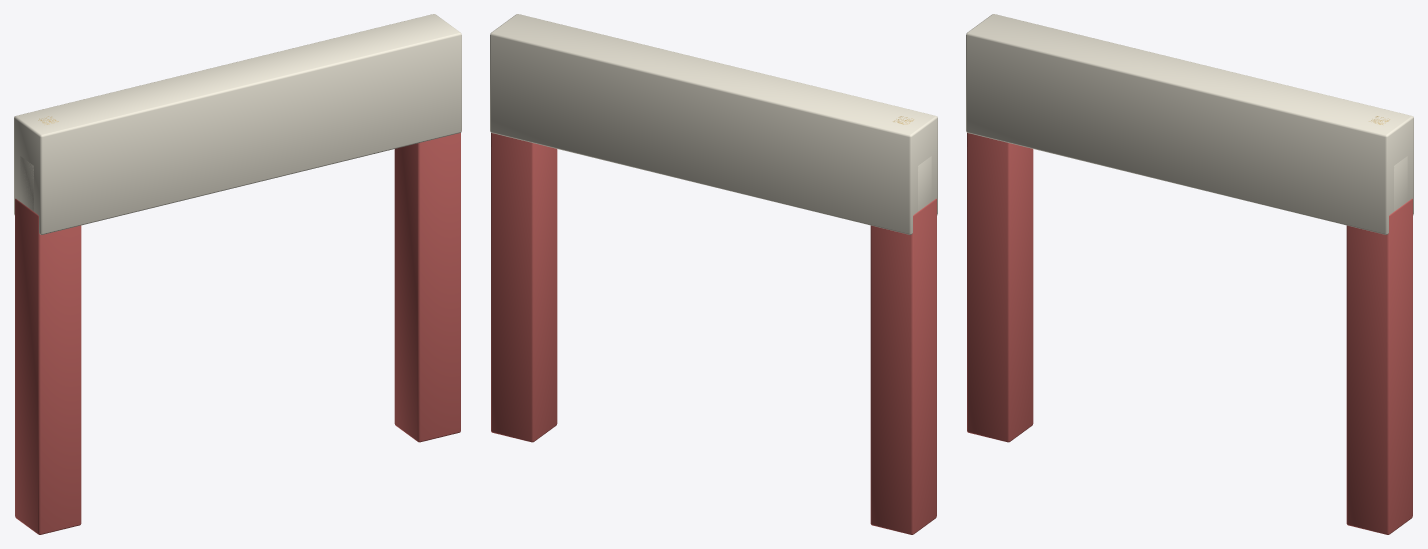
File: cancello.glb
3 views of the same model, side by side, from view 1: azimuth 30°, elevation 25°; view 2: azimuth 150°, elevation 25°; view 3: azimuth 330°, elevation 25° (orthographic).
Visible parts, largest first — view 1: COL_architrave, montante_-1, montante_1, architrave; view 2: COL_architrave, montante_-1, montante_1, architrave; view 3: COL_architrave, montante_1, montante_-1, architrave.
Part boxes in pixels (x1=…): COL_architrave: x1=14, y1=14, x2=461, y2=234; montante_-1: x1=15, y1=198, x2=81, y2=534; montante_1: x1=394, y1=133, x2=460, y2=442; architrave: x1=20, y1=156, x2=33, y2=211; COL_architrave: x1=490, y1=14, x2=937, y2=234; montante_-1: x1=870, y1=198, x2=936, y2=534; montante_1: x1=491, y1=133, x2=557, y2=442; architrave: x1=918, y1=156, x2=931, y2=211; COL_architrave: x1=966, y1=14, x2=1413, y2=234; montante_1: x1=1346, y1=198, x2=1412, y2=534; montante_-1: x1=967, y1=133, x2=1033, y2=442; architrave: x1=1394, y1=156, x2=1407, y2=211.
Size of the model in its own units: 4.41 by 4 by 0.5.
